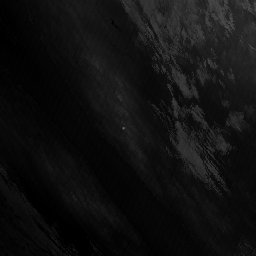Target: (120, 126, 126, 131)
